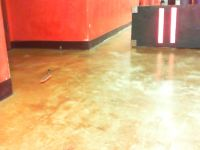switch: (170, 7, 177, 44), (157, 8, 164, 44)
